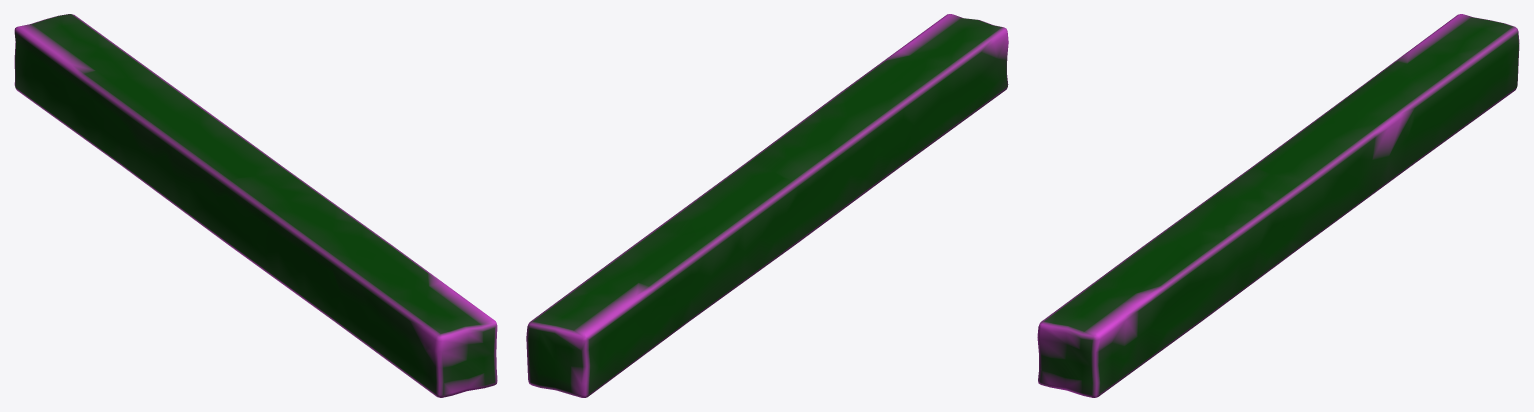
File: frame_300_01.fbx
3 views of the same model, side by side, from view 1: azimuth 30°, elevation 25°; view 2: azimuth 150°, elevation 25°; view 3: azimuth 330°, elevation 25° (orthographic).
Visible parts, largest first — view 1: frame_300_01; view 2: frame_300_01; view 3: frame_300_01.
Part boxes in pixels (x1,y1,x2,y2): frame_300_01: (14,14,497,397); frame_300_01: (526,14,1008,397); frame_300_01: (1037,14,1519,397).
Bounding box in the file's own units: 0.258 × 0.2578 × 3.01.
